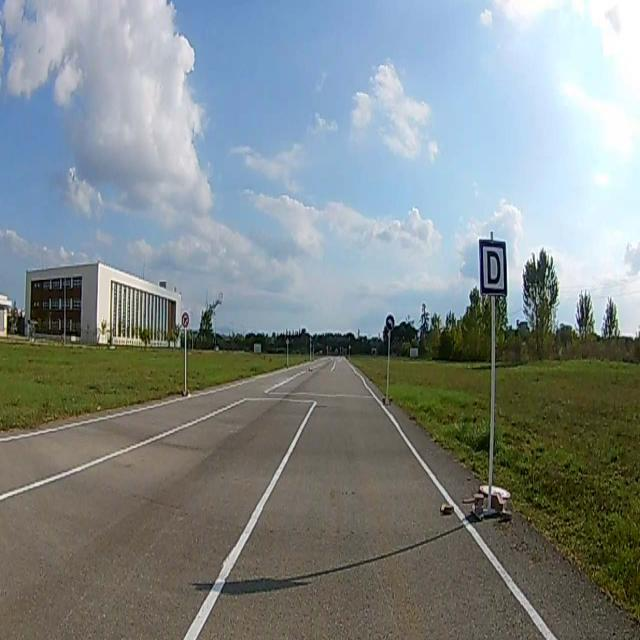durak: (478, 240, 508, 293)
sol: (386, 314, 394, 330)
